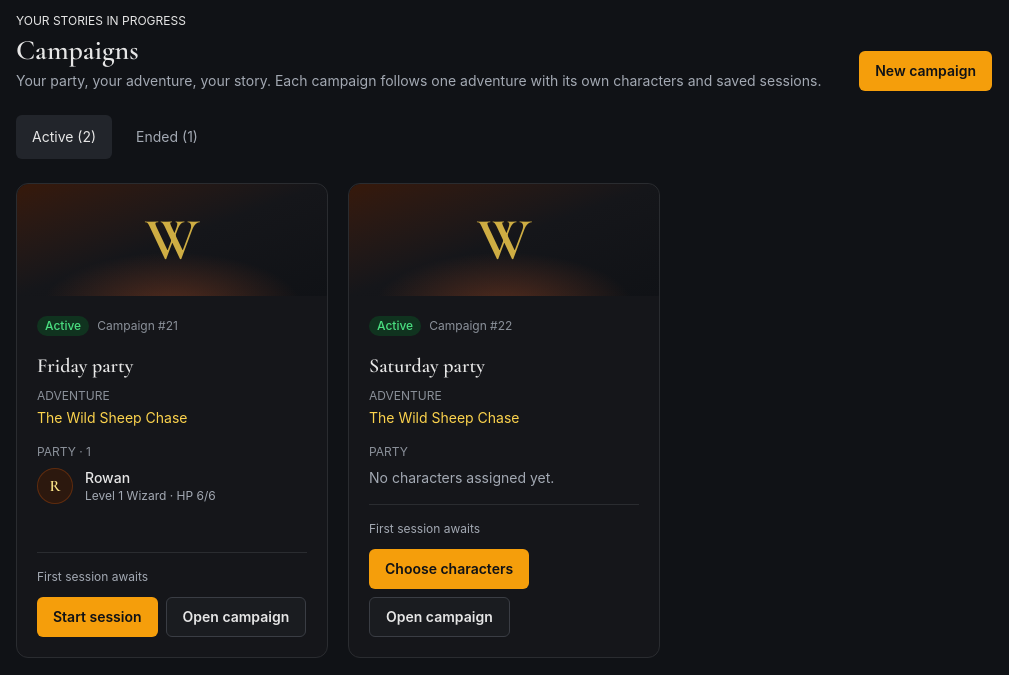
Test: shows separate active campaigns for the same adventure and keeps archived-adventure campaigns visible
expect the text "Old party" is not shown: met
Click the button "Ended (1)" at (167, 137), box [120, 115, 214, 159]
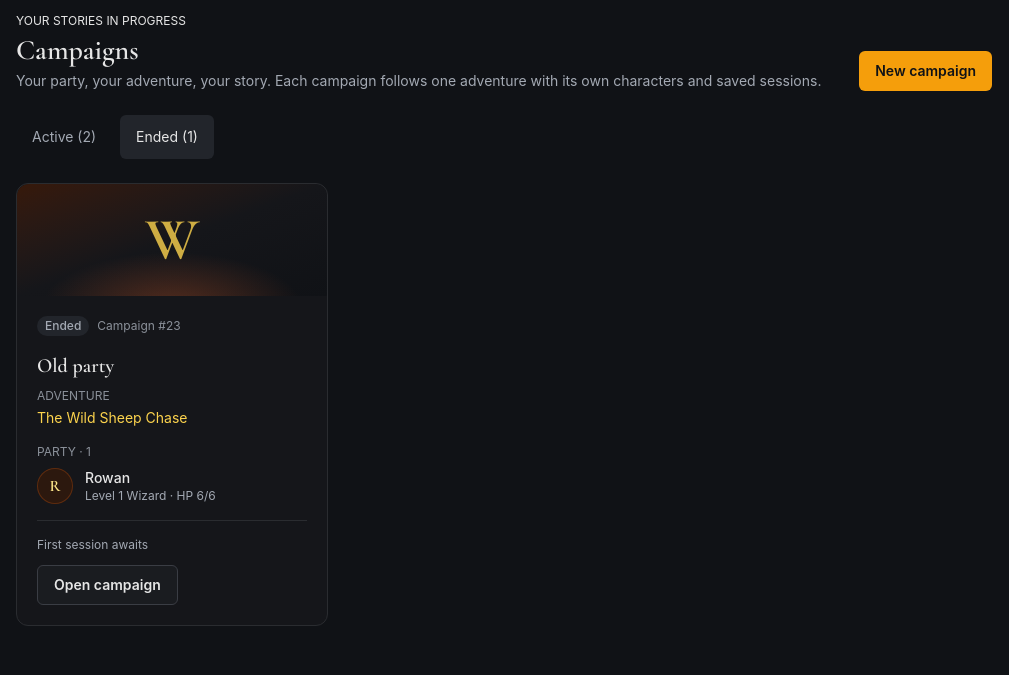
expect the text "Old party" is shown: met, box [37, 354, 114, 378]
